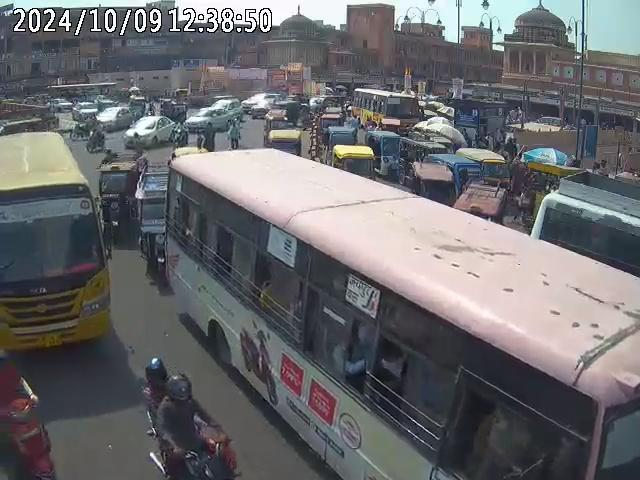auto: (96, 152, 144, 236), (413, 157, 460, 209), (365, 127, 402, 178), (263, 128, 303, 159), (326, 124, 358, 162)
bus: (167, 145, 640, 480), (1, 128, 109, 361), (352, 87, 422, 134)
car: (127, 114, 176, 145), (240, 94, 272, 117), (71, 100, 99, 121)
helmet: (166, 374, 192, 402), (146, 360, 169, 382)
motorbike-rider: (138, 355, 239, 478)
scooty-rider: (0, 343, 58, 479)
